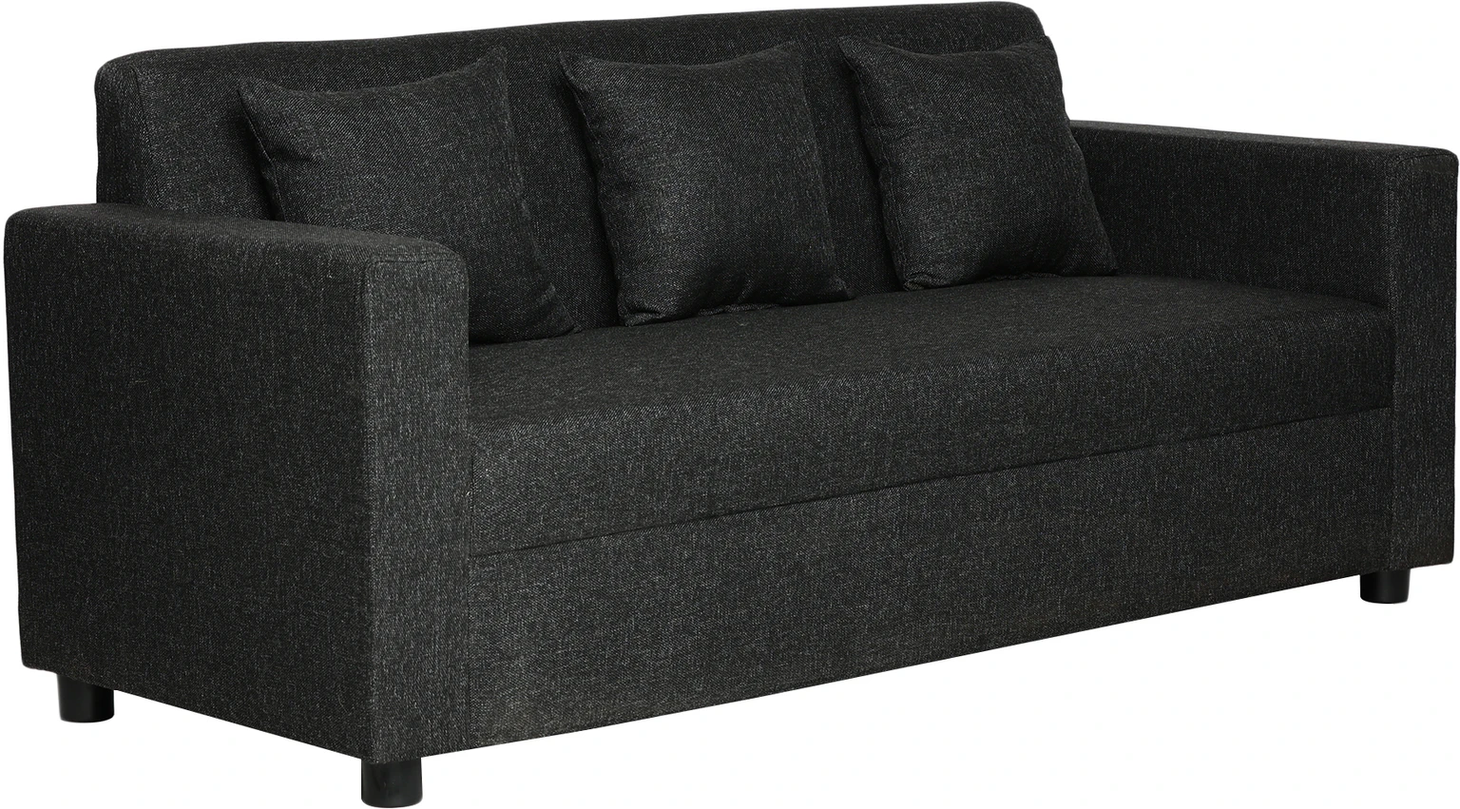3seatersofa: (4, 0, 1459, 808)
backrest: (97, 0, 1040, 327)
base: (468, 409, 1392, 751)
leftarmrest: (1074, 120, 1458, 568)
leg: (363, 761, 420, 808), (61, 677, 114, 722), (1355, 568, 1411, 608)
pillow: (243, 49, 580, 338), (567, 42, 854, 321), (842, 34, 1116, 287)
rightarmrest: (4, 203, 466, 764)
seat: (471, 262, 1390, 557)
